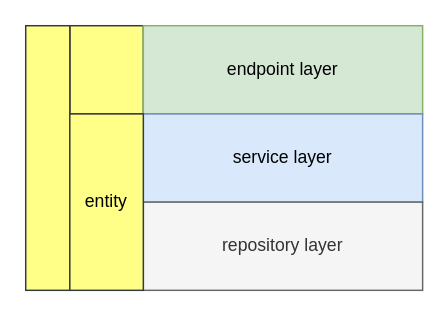
Image size: 448x316. Some labels were removed from this diagram. Each missing label, with the box of its shape:
domain: (24, 24, 70, 290)
dto: (68, 24, 143, 114)
